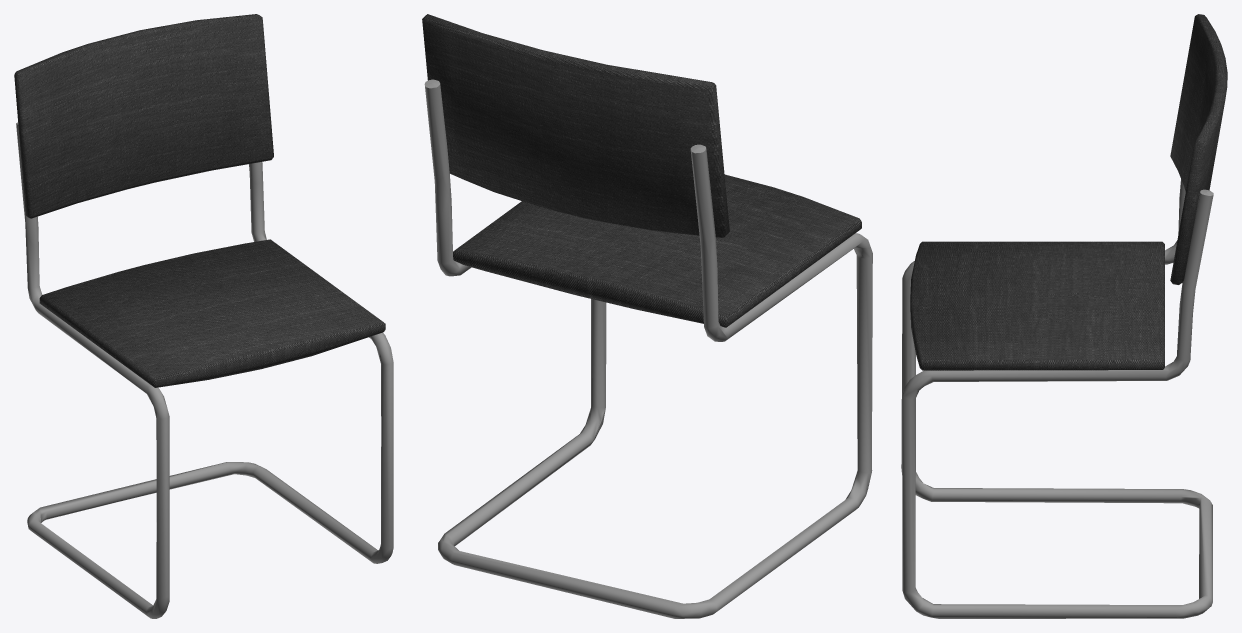
Rendered from Chair.FBX.
The picture shows the model from 3 angles, left to right: view 1: azimuth 30°, elevation 25°; view 2: azimuth 150°, elevation 25°; view 3: azimuth 270°, elevation 25°; orthographic projection. The views are drawn at different scales.
Visible parts, largest first — view 1: chair; view 2: chair; view 3: chair.
Part boxes in pixels (left/top/right/bottom): chair: left=14, top=14, right=393, bottom=618; chair: left=422, top=14, right=872, bottom=618; chair: left=901, top=14, right=1227, bottom=618.
Bounding box in the file's own units: 48.03 × 85.65 × 52.07.
